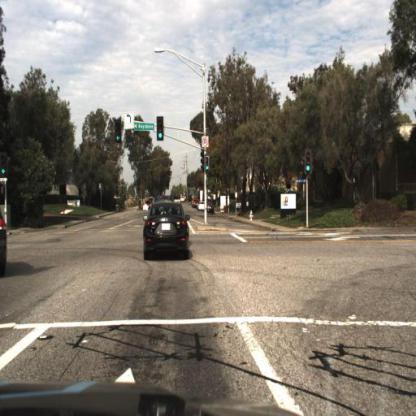car: (144, 198, 191, 265), (204, 199, 216, 218)
trafficLight-Green: (303, 149, 313, 178), (158, 120, 166, 143), (204, 153, 212, 174)
trafficLight-GreenLeft: (116, 120, 124, 147)
